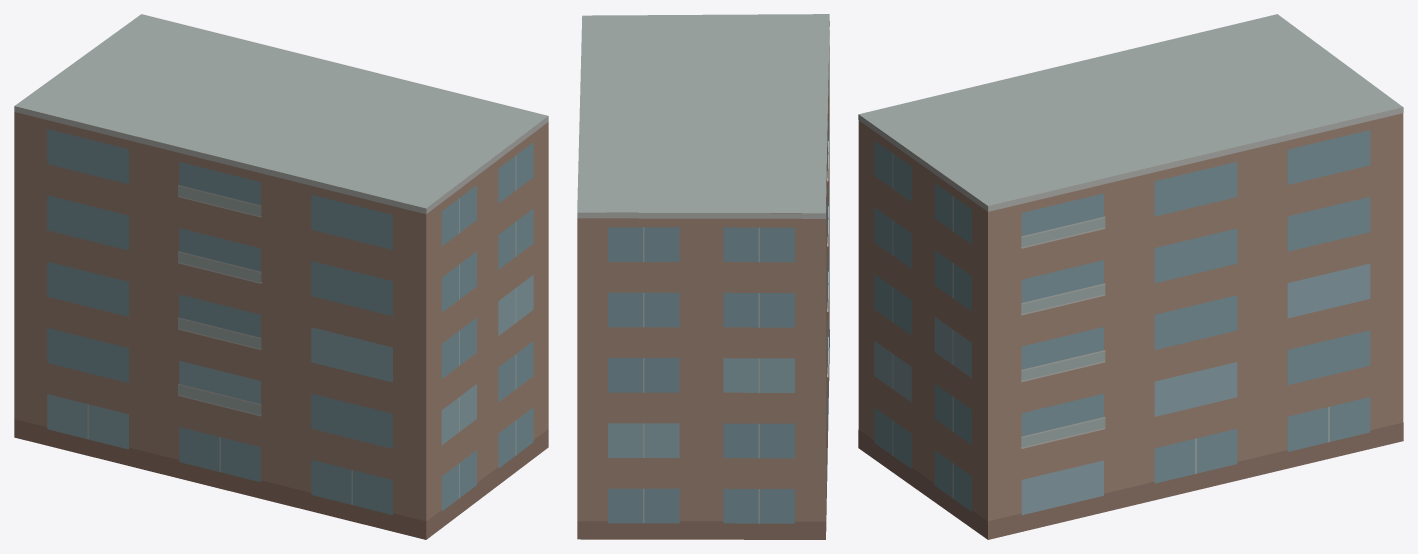
Rendered from survey-upis-32672540.glb.
3 renders of one model, left to right at view 1: azimuth 30°, elevation 25°; view 2: azimuth 150°, elevation 25°; view 3: azimuth 270°, elevation 25°, orthographic. The views are drawn at different scales.
Visible parts, largest first — view 1: survey-upis-32672540.tmp; view 2: survey-upis-32672540.tmp; view 3: survey-upis-32672540.tmp.
Boxes of the visible parts, box(x1,y1,x2,y2) form: survey-upis-32672540.tmp: box(14, 14, 548, 539); survey-upis-32672540.tmp: box(577, 14, 829, 539); survey-upis-32672540.tmp: box(858, 14, 1403, 539).
Bounding box in the file's own units: 17.29 × 14 × 20.72.
